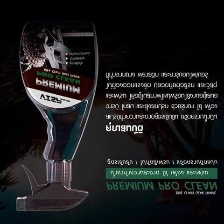cleaning_solution: (10, 3, 101, 216)
